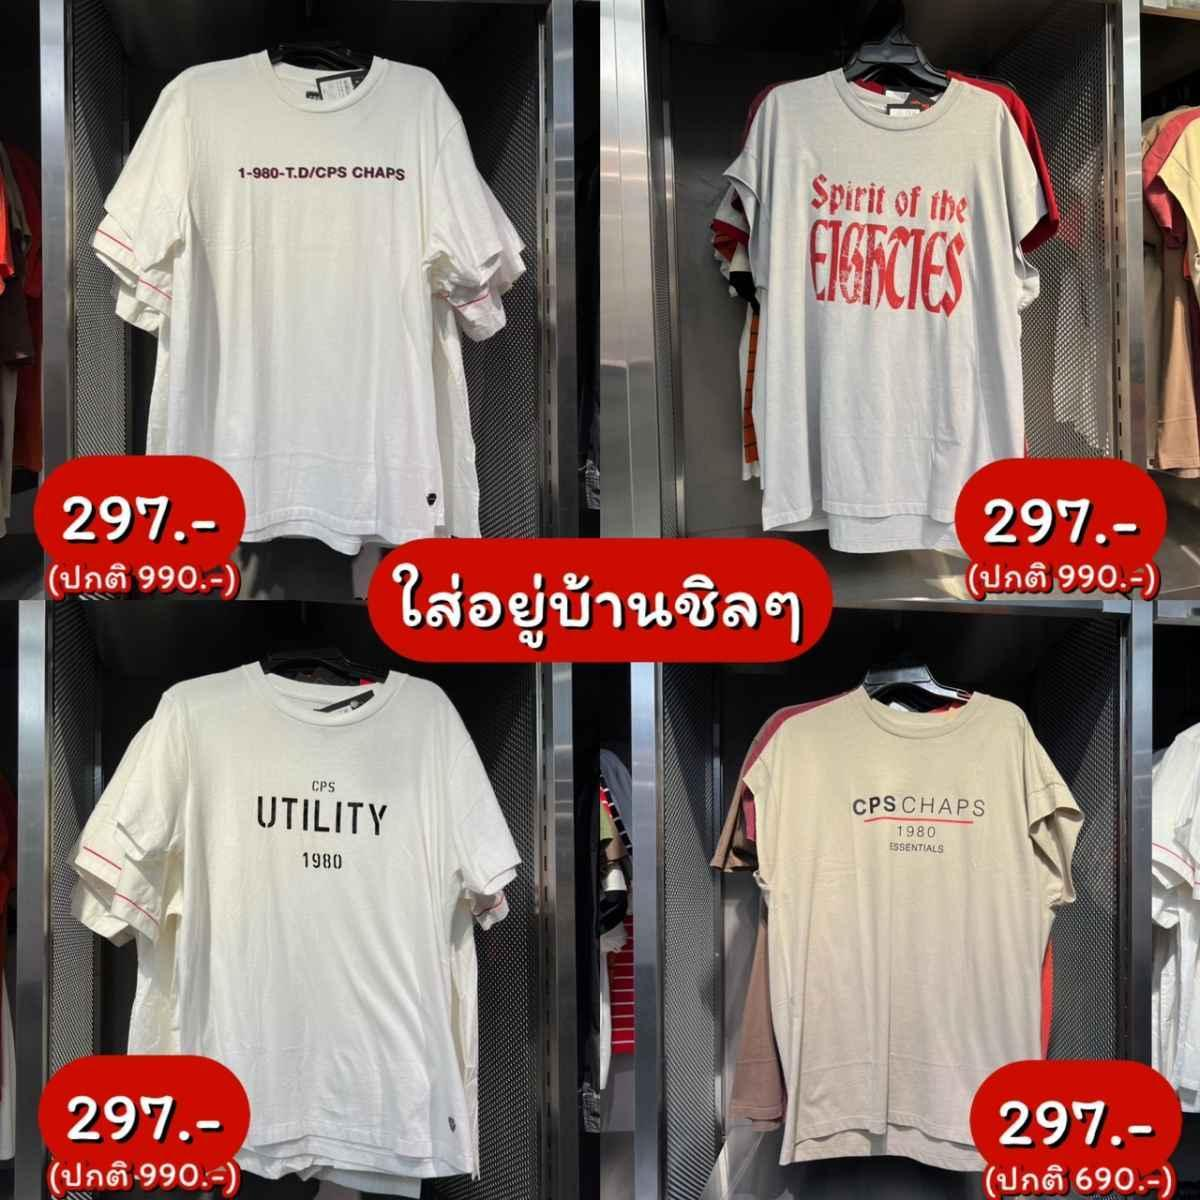Tshirt: (115, 653, 513, 1177), (115, 51, 511, 534), (738, 676, 1065, 1170), (733, 76, 1047, 558)
